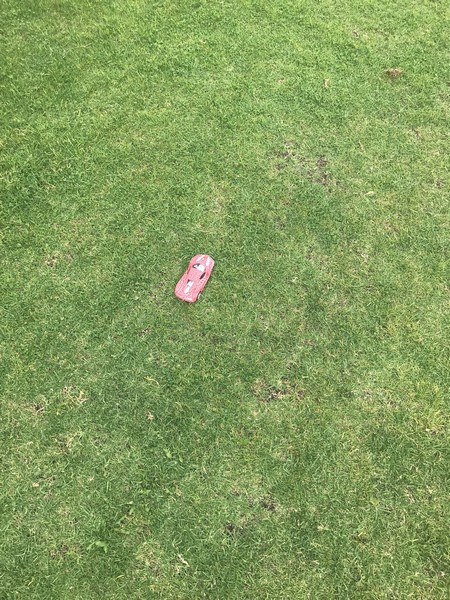RC: (173, 253, 217, 307)
